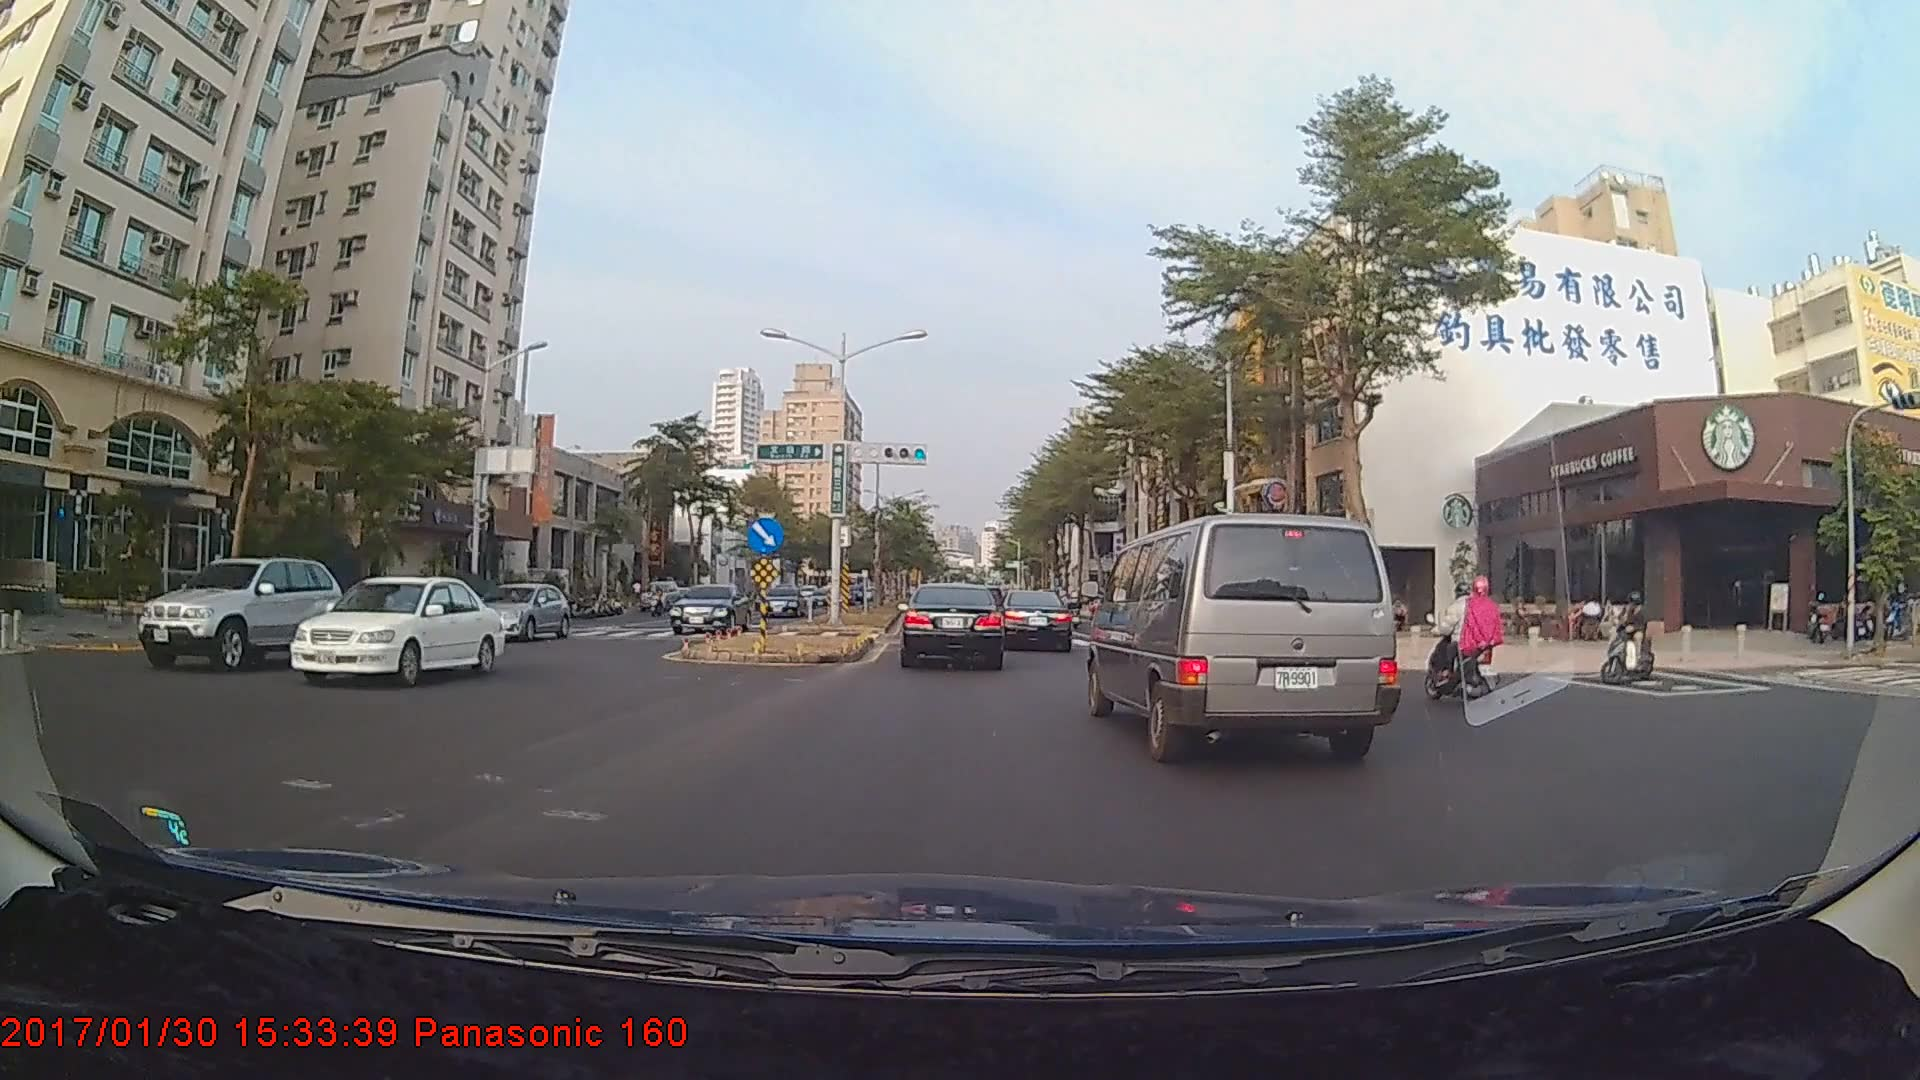rider: (1425, 566, 1511, 702), (1597, 588, 1667, 684)
vehicle: (1093, 506, 1395, 764), (135, 555, 351, 669), (287, 574, 504, 684), (899, 582, 1006, 669), (461, 582, 571, 642), (1000, 588, 1074, 652), (669, 582, 750, 635), (756, 584, 808, 619)
